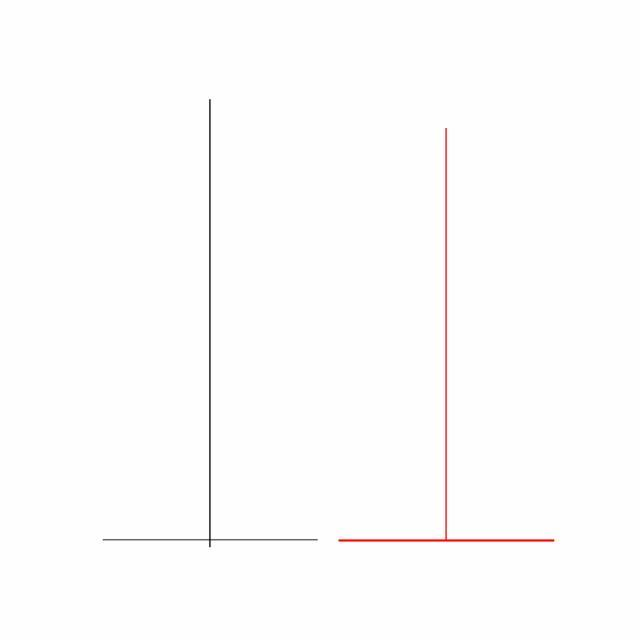Gravestone Doji: (328, 124, 566, 547)
